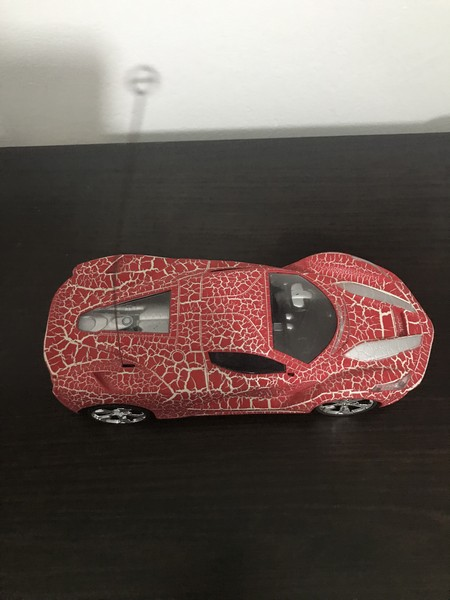RC: (42, 250, 436, 430)
